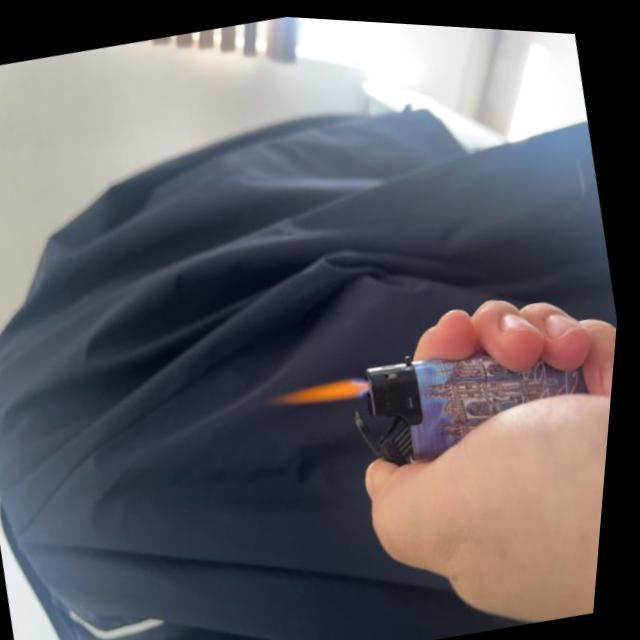fire: (278, 365, 374, 415)
